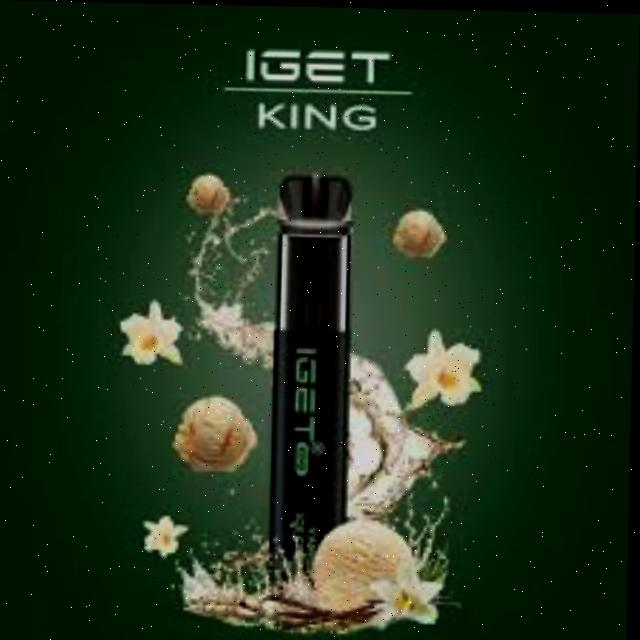vape: (269, 172, 356, 589)
